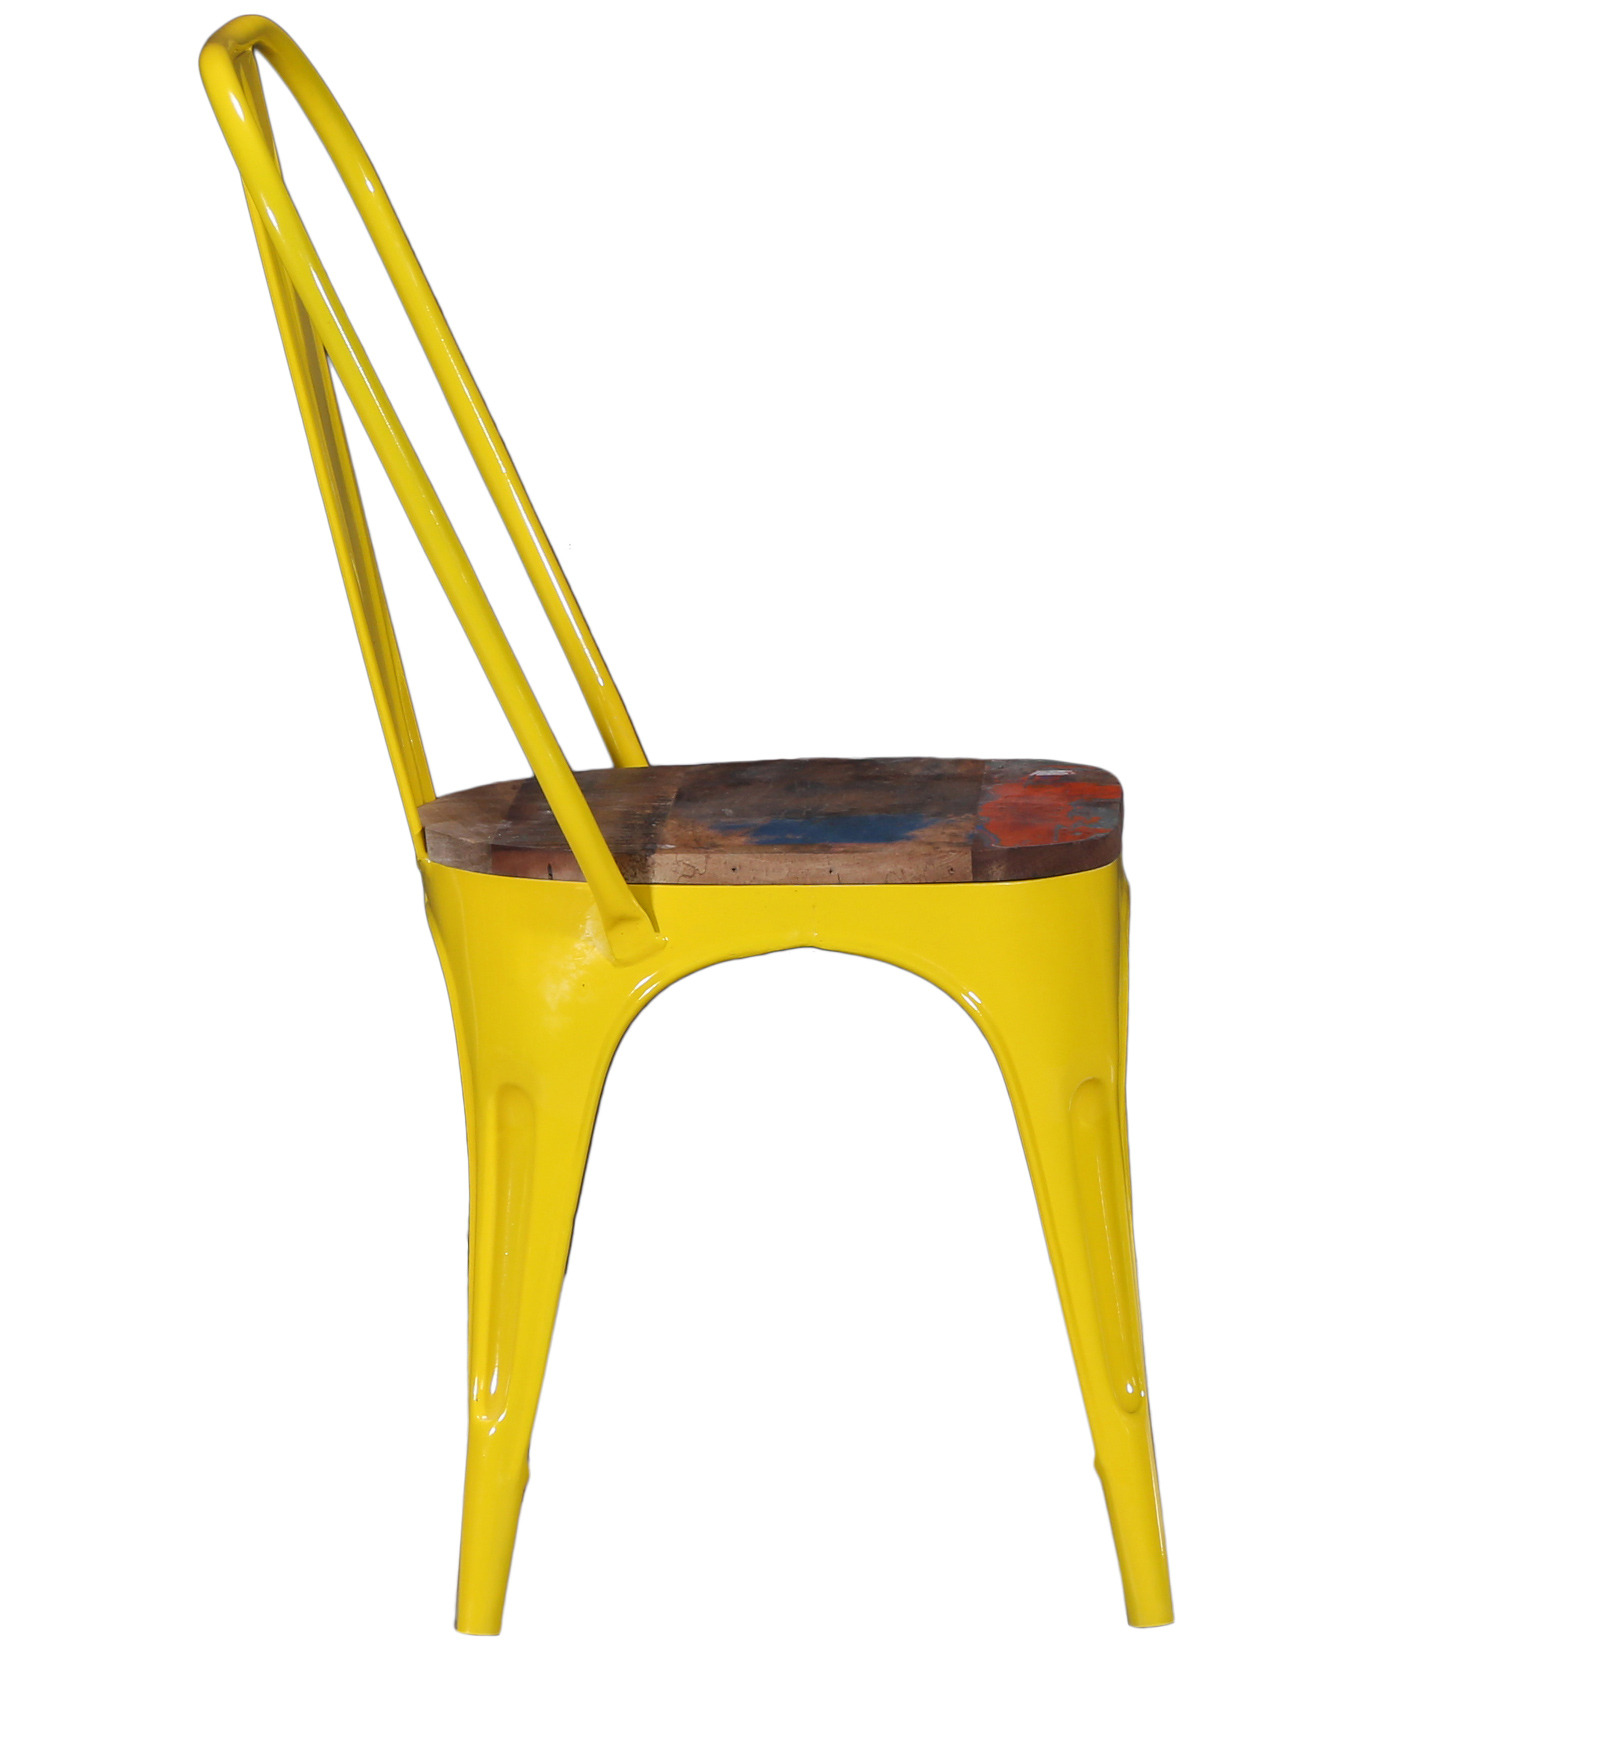Kumtor Metal Chair in Distress Yellow Color with Wooden Seat by Bohemiana: (158, 8, 1287, 1720)
